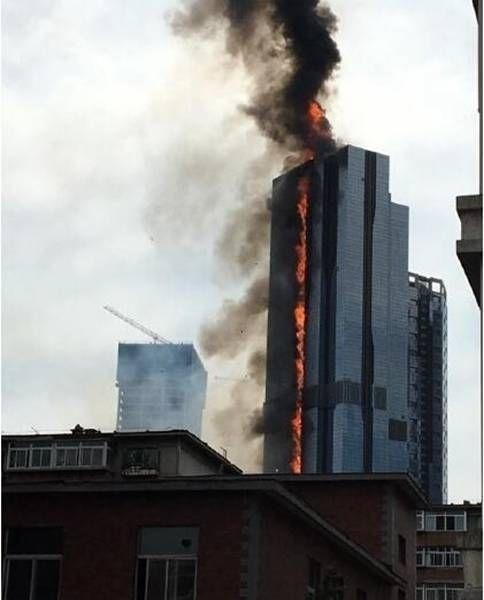fire: (303, 101, 334, 150)
